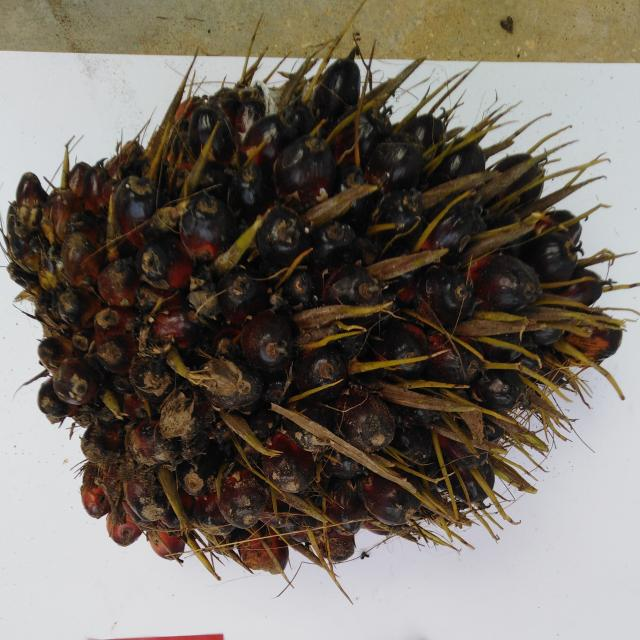FFB: (29, 75, 607, 547)
